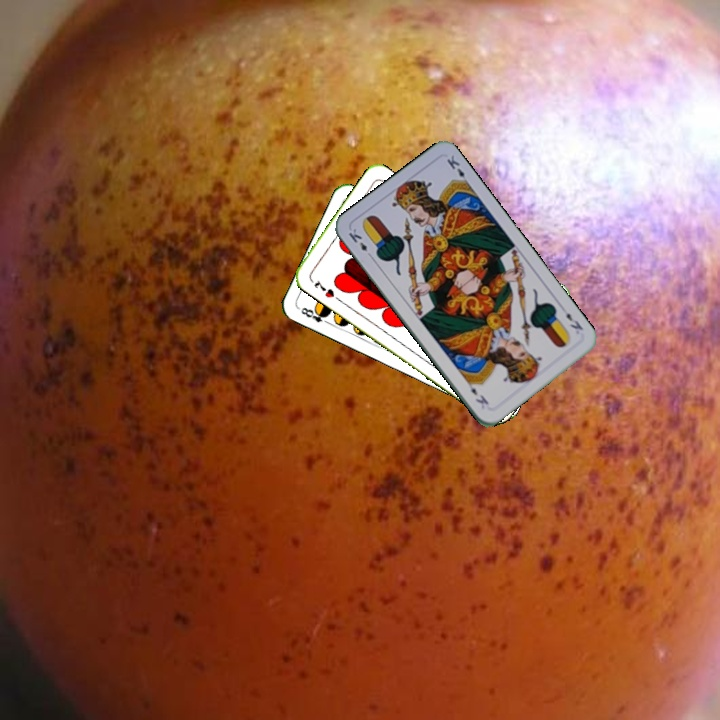E8: (297, 303, 333, 327)
EK: (344, 224, 376, 261), (562, 308, 586, 333)
H7: (310, 277, 337, 301)
